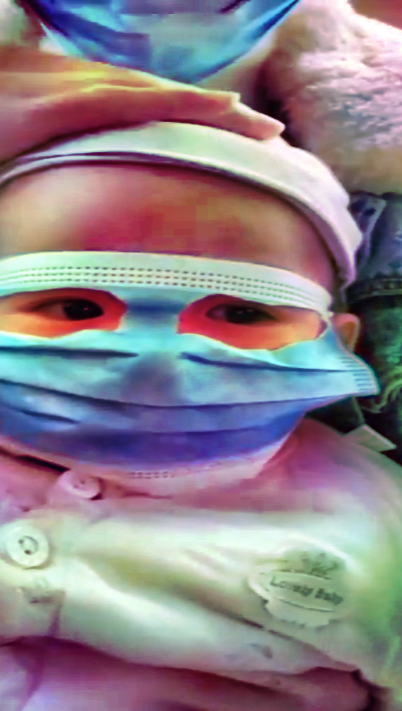mask_weared_incorrect: (1, 134, 373, 475)
